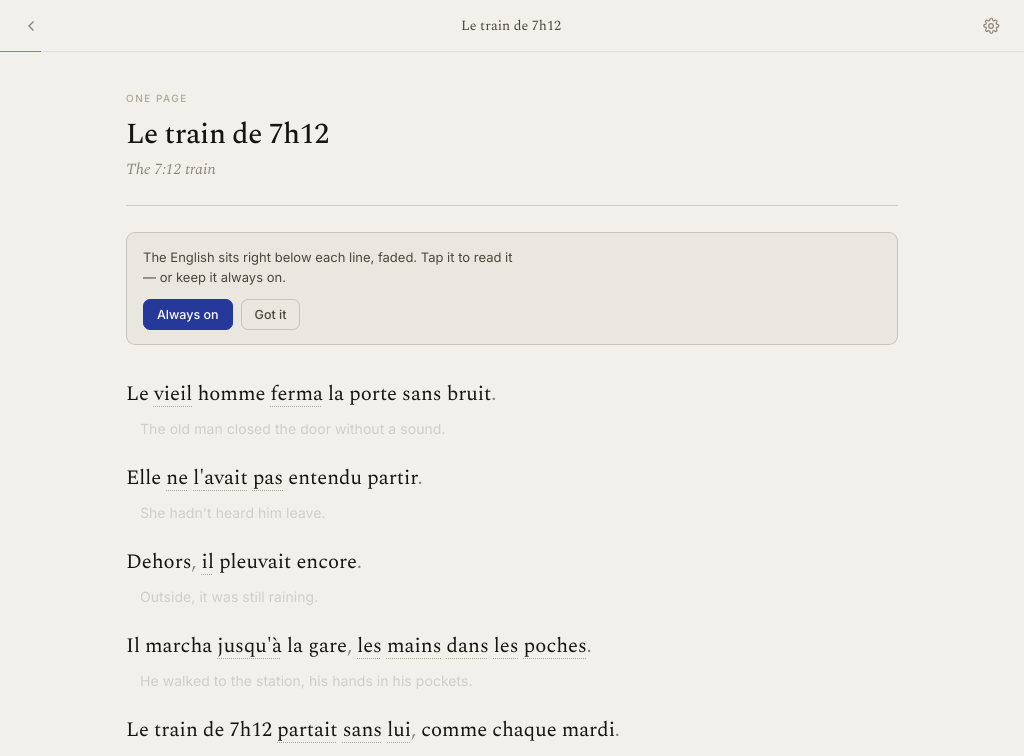
Test: the reader › raises the action bar with Why and Listen once something is selected
Click the 1st button "Le".
click(137, 394)  # box [126,378,149,409]
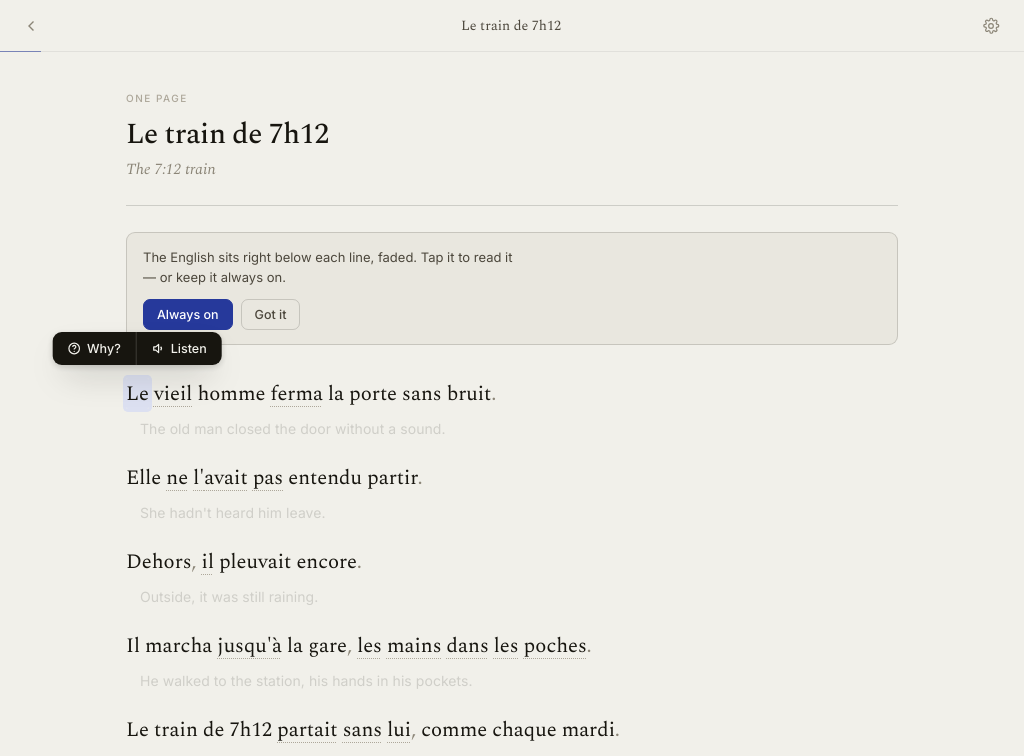
Expected: the button "Why?" is shown, [53,332,136,365]
Expected: the button "Listen" is shown, [137,332,222,365]
